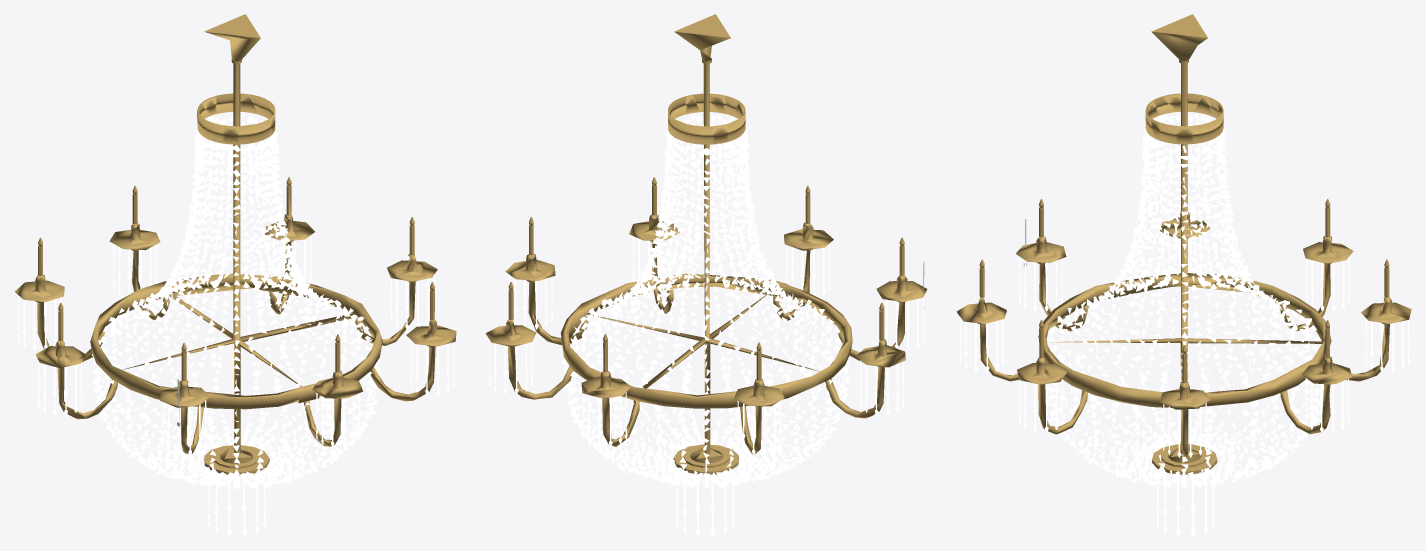
The model's file is crystal-chandelier.gltf.
3 views of the same model, side by side, from view 1: azimuth 30°, elevation 25°; view 2: azimuth 150°, elevation 25°; view 3: azimuth 270°, elevation 25° (orthographic).
Parts seen in each view (by area): view 1: Sketchfab_model; view 2: Sketchfab_model; view 3: Sketchfab_model.
Part boxes in pixels (<box>): Sketchfab_model: <box>14,14,456,536</box>; Sketchfab_model: <box>485,14,927,536</box>; Sketchfab_model: <box>956,14,1411,536</box>.
Bounding box in the file's own units: 1.16 × 1.4 × 1.16.
